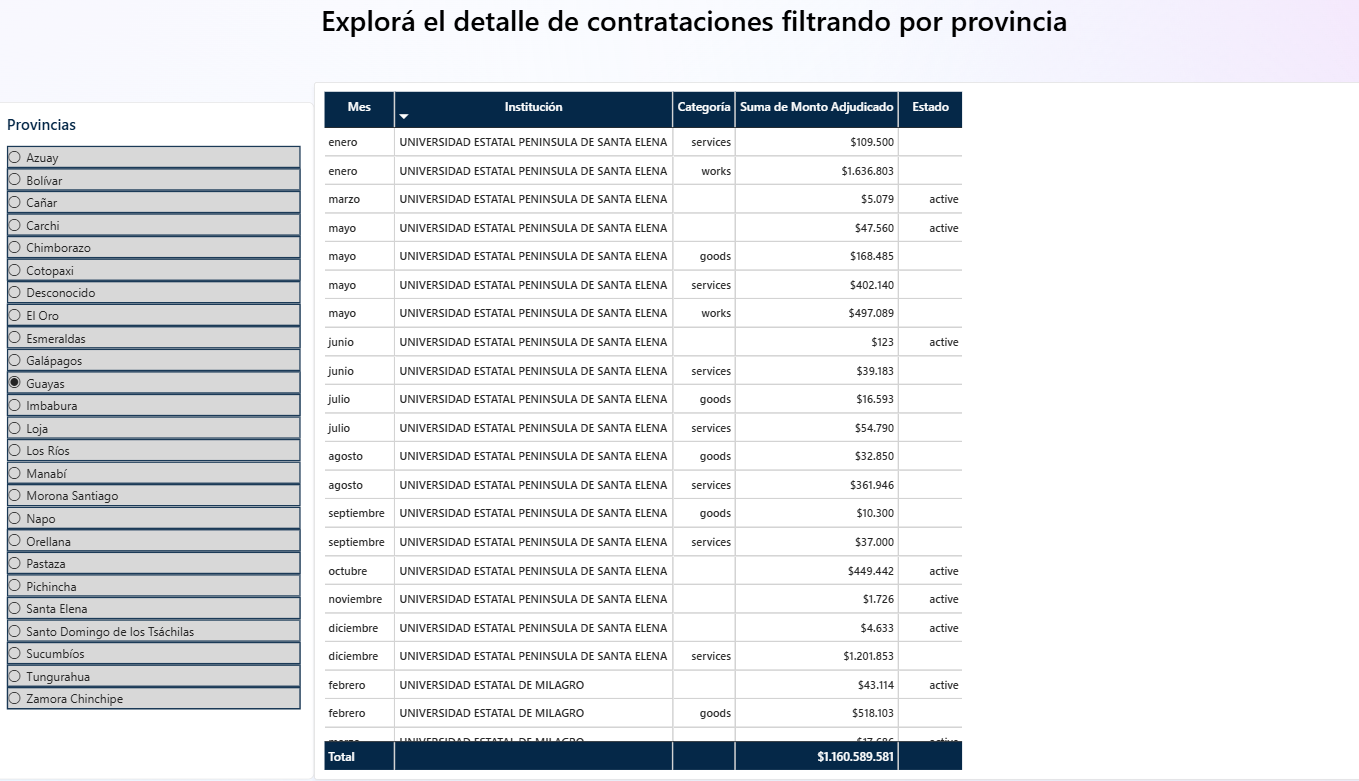

What the dashboard file says about the page in this screenshot:
{"tool":"powerbi","page":{"name":"Detalle Procesos - Provincias","canvas":[1920,1080],"ordinal":2},"visuals":[{"type":"listSlicer","title":"Provincias","fields":{"Values":["contratacion_2025_completo.provincia"]},"box":[29.3,146.3,425.7,901.4],"z":0},{"type":"tableEx","fields":{"Values":["contratacion_2025_completo.date.Variación.Jerarquía de fechas.Mes","contratacion_2025_completo.procuringEntity_name","contratacion_2025_completo.mainProcurementCategory","Sum(contratacion_2025_completo.amount)","contratacion_2025_completo.status"]},"box":[454.9,119.7,1417.8,928.4],"z":1000},{"type":"textbox","box":[445,11.7,1030,81.7],"z":2000}]}

Visuals, with their boxes in screenshot pixels (x1, y1, x2, y2), scaled from the page's 1920x1080 canvas onto the 1359x781 screenshot:
"Provincias" listSlicer: 21, 106, 322, 758
tableEx - contratacion_2025_completo.date.Variación.Jerarquía de fechas.Mes x contratacion_2025_completo.procuringEntity_name: 322, 87, 1326, 758
textbox: 315, 8, 1044, 68
